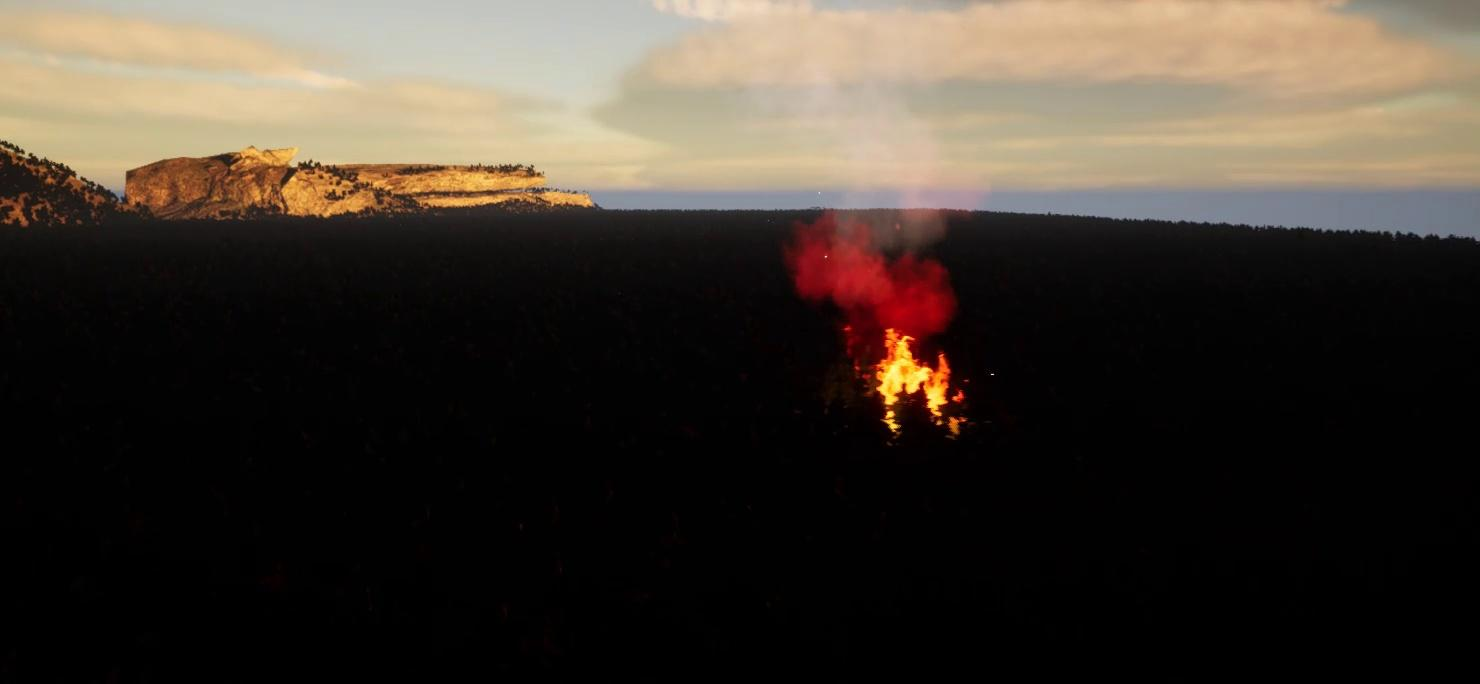fire: (864, 327, 959, 424)
smoke: (795, 178, 959, 342)
